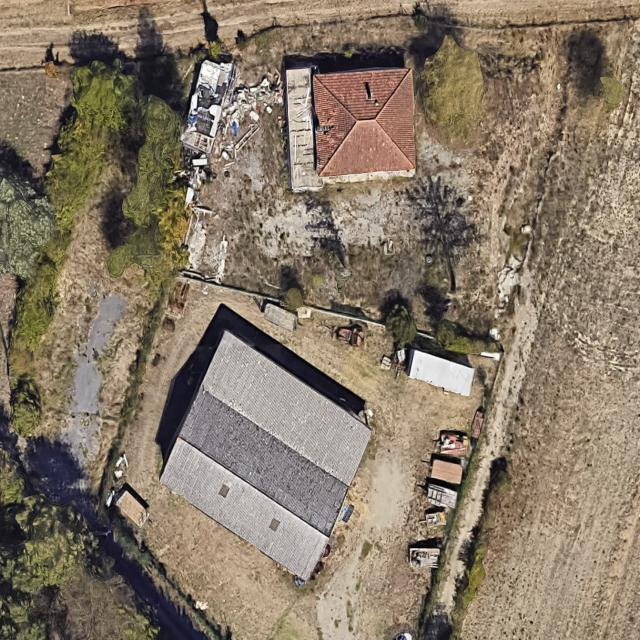immeuble: (132, 326, 398, 582)
maison: (313, 68, 416, 177)
